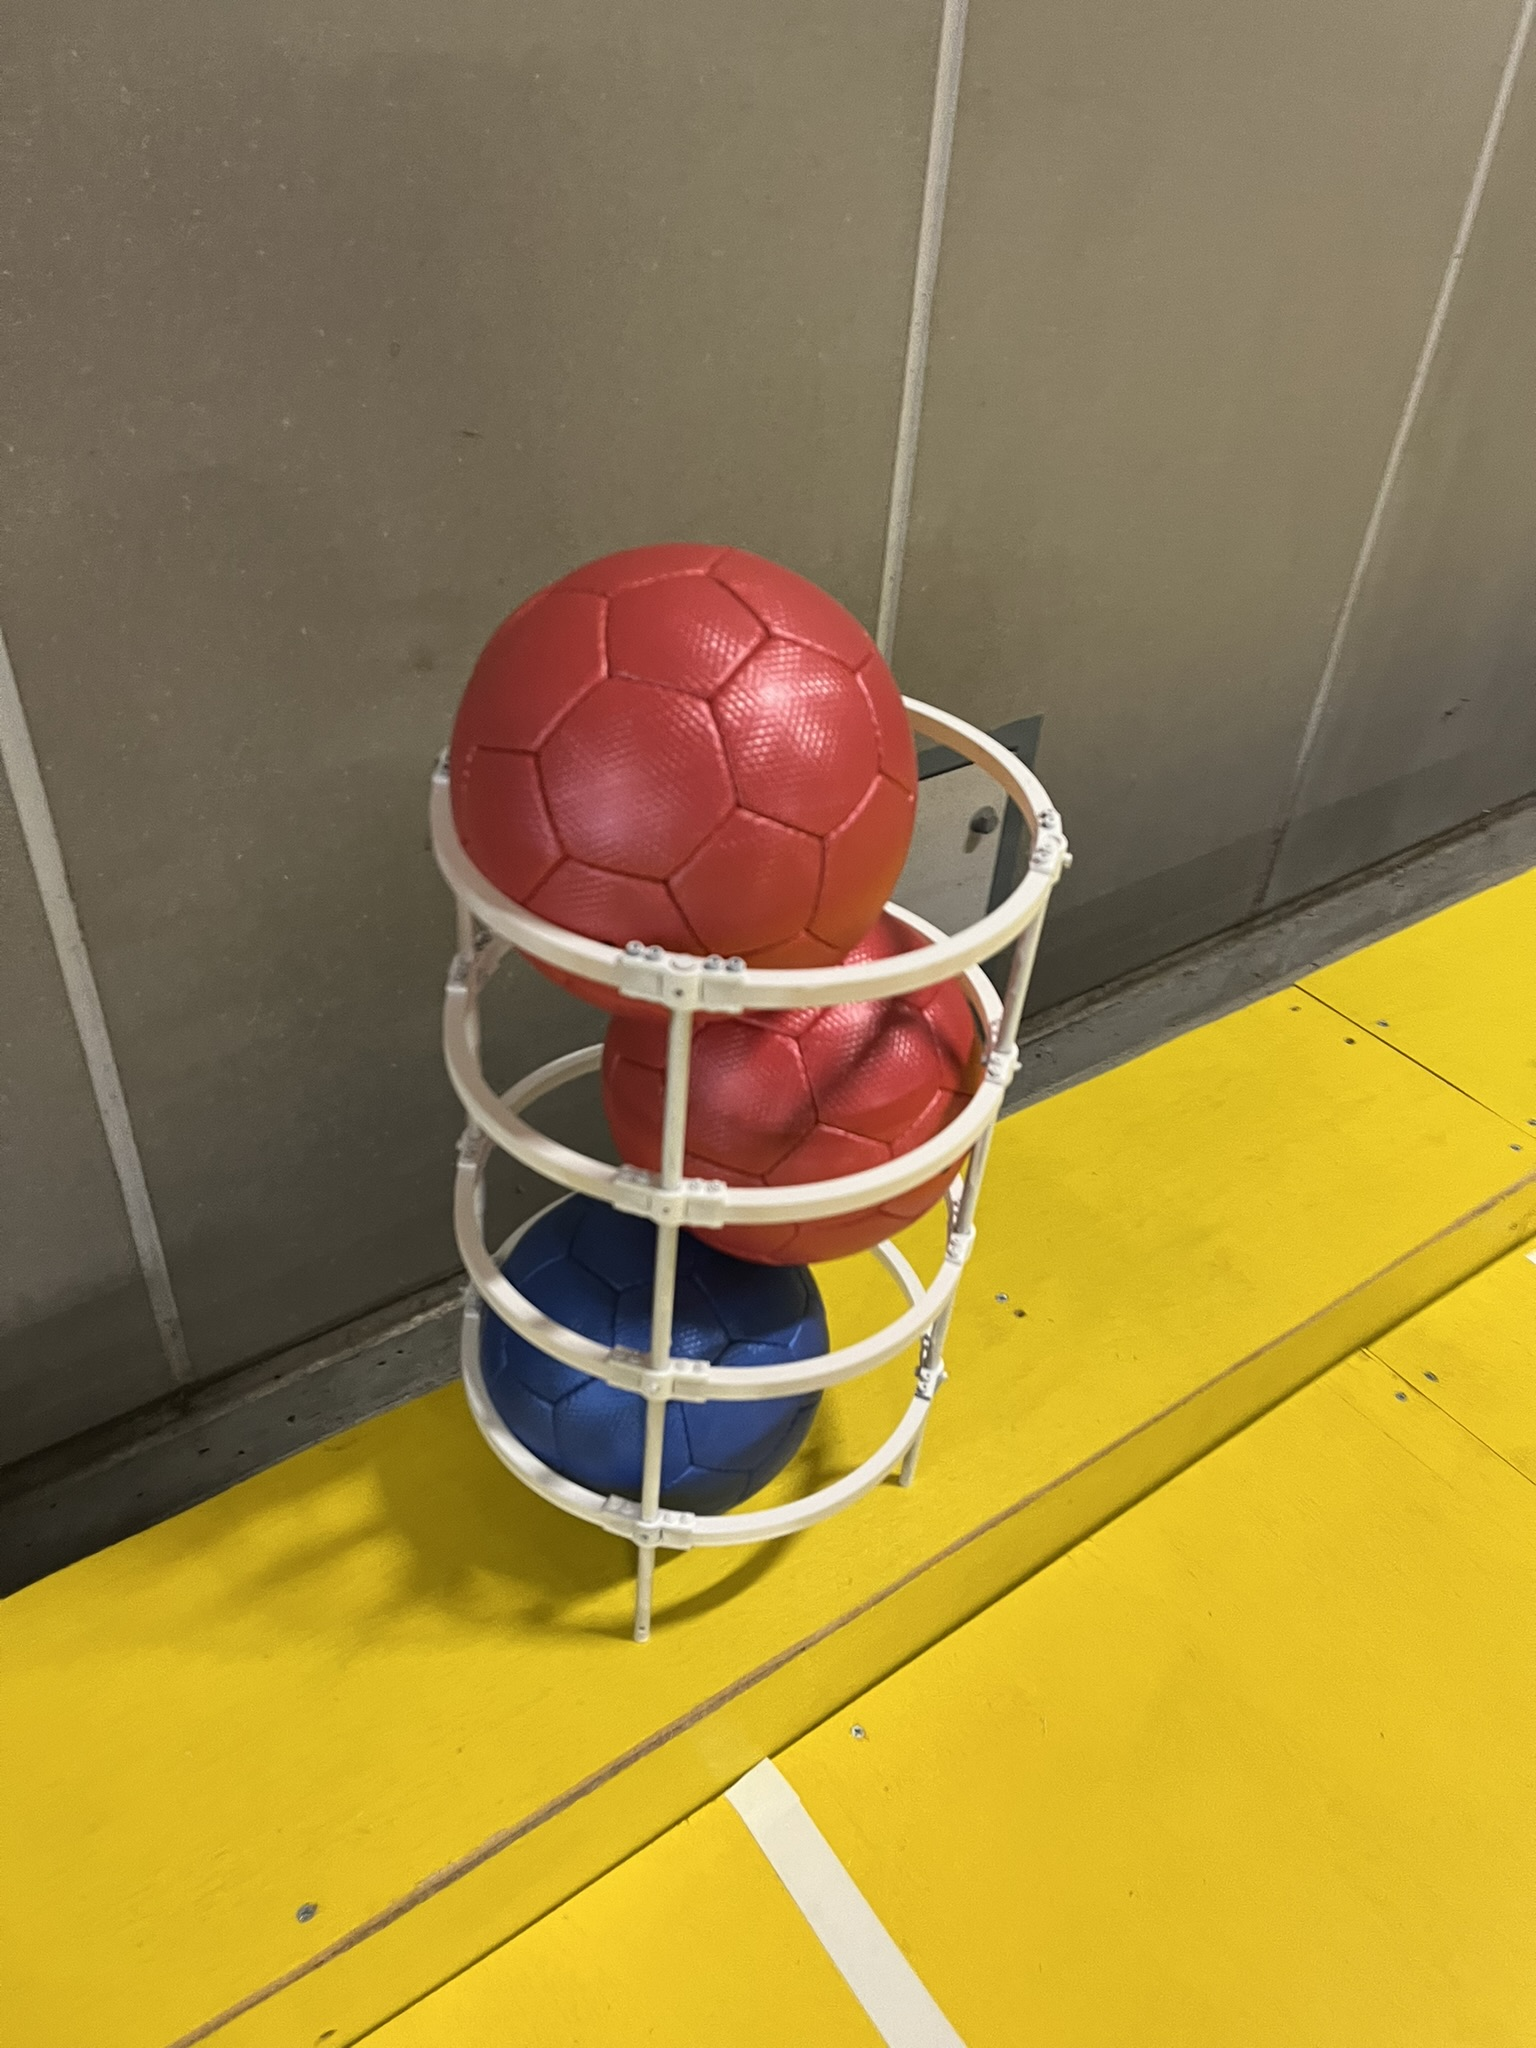blue: (452, 1166, 816, 1519)
